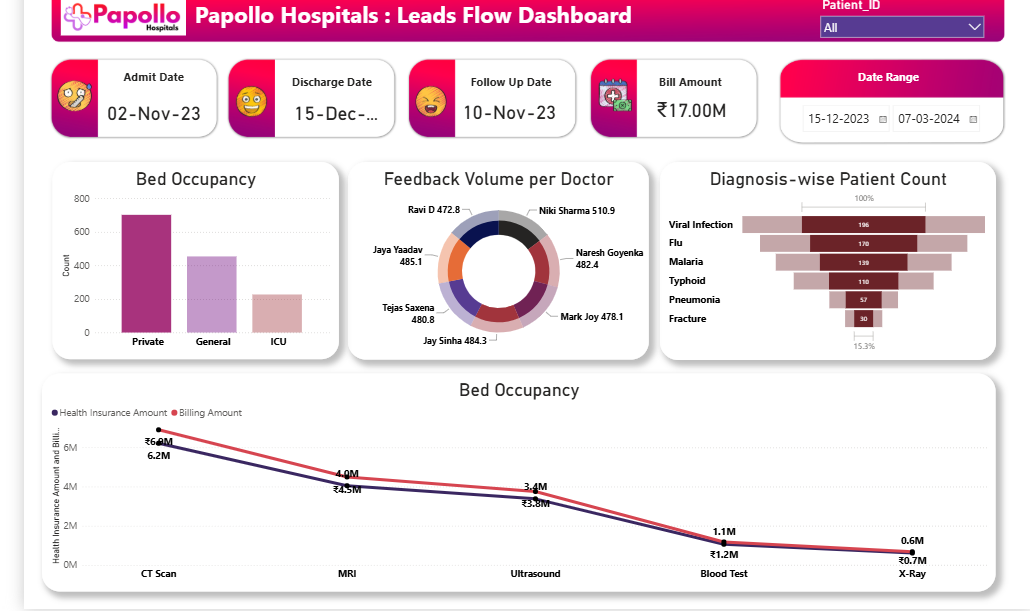

What the dashboard file says about the page in this screenshot:
{"tool":"powerbi","page":{"name":"dashboard","canvas":[1680,1050],"ordinal":0},"visuals":[{"type":"textbox","box":[280,27.1,755.7,74.3],"z":0},{"type":"image","box":[2636.7,100,623.3,150],"z":1000},{"type":"slicer","fields":{"Values":["Sheet1.Patient_ID"]},"box":[2400,373.3,793.3,420],"z":2000},{"type":"card","fields":{"Values":["Min(Sheet1.Admit_Date)"]},"box":[437.6,198.8,162.9,42.8],"z":3000},{"type":"card","fields":{"Values":["Min(Sheet1.Discharge_Date)"]},"box":[129.8,198.8,172.6,42.8],"z":4000},{"type":"card","fields":{"Values":["Min(Sheet1.Followup Date)"]},"box":[724.3,198.6,167.1,42.9],"z":5000},{"type":"textbox","box":[152.9,145.7,127.1,57.1],"z":6000},{"type":"textbox","box":[437.1,151.4,151.4,37.1],"z":7000},{"type":"textbox","box":[732.9,151.4,158.6,37.1],"z":8000},{"type":"textbox","box":[1035.7,151.4,151.4,37.1],"z":9000},{"type":"card","fields":{"Values":["Sum(Sheet1.Billing Amount)"]},"box":[1031.4,194.3,158.6,42.9],"z":10000},{"type":"image","box":[50,157.1,68.6,74.3],"z":11000},{"type":"image","box":[348.6,172.9,62.9,62.9],"z":12000},{"type":"image","box":[640,171.4,77.1,62.9],"z":13000},{"type":"image","box":[951.4,158.6,65.7,71.4],"z":14000},{"type":"columnChart","title":"Bed Occupancy","fields":{"Category":["Sheet1.Bed_Occupancy"],"Y":["CountNonNull(Sheet1.Bed_Occupancy)"]},"box":[47.1,305.7,477.1,328.6],"z":15000},{"type":"donutChart","title":"Feedback Volume per Doctor","fields":{"Category":["Sheet1.Doctor"],"Y":["Sum(Sheet1.Feedback)"]},"box":[540.2,305.2,501,329.5],"z":16000},{"type":"funnel","title":"Diagnosis-wise Patient Count","fields":{"Category":["Sheet1.Diagnosis"],"Y":["CountNonNull(Sheet1.Diagnosis)"]},"box":[1060,305.7,560,330],"z":17000},{"type":"image","box":[30.2,27.8,271.4,71.9],"z":18000},{"type":"lineChart","title":"Bed Occupancy","fields":{"Y":["Sum(Sheet1.Health Insurance Amount)","Sum(Sheet1.Billing Amount)"],"Category":["Sheet1.Test"]},"box":[31.1,656.3,1589.5,363.3],"z":19000},{"type":"slicer","fields":{"Values":["Sheet1.Admit_Date"]},"box":[1284.3,201.2,360.6,68.9],"z":20000},{"type":"slicer","fields":{"Values":["Sheet1.Patient_ID"]},"box":[1317.1,24.3,292.9,82.9],"z":21000},{"type":"textbox","box":[1365.7,145.7,151.4,37.1],"z":22000}]}

Visuals, with their boxes on the page's 1680x1050 design canvas (x1, y1, x2, y2). These are canvas units, not pixel positions in the 1030x611 screenshot, which may show the page scaled, cropped or inside an application window:
textbox: left=280, top=27, right=1036, bottom=101
image: left=2637, top=100, right=3260, bottom=250
slicer - Sheet1.Patient_ID: left=2400, top=373, right=3193, bottom=793
card - Min(Sheet1.Admit_Date): left=438, top=199, right=600, bottom=242
card - Min(Sheet1.Discharge_Date): left=130, top=199, right=302, bottom=242
card - Min(Sheet1.Followup Date): left=724, top=199, right=891, bottom=242
textbox: left=153, top=146, right=280, bottom=203
textbox: left=437, top=151, right=588, bottom=188
textbox: left=733, top=151, right=892, bottom=188
textbox: left=1036, top=151, right=1187, bottom=188
card - Sum(Sheet1.Billing Amount): left=1031, top=194, right=1190, bottom=237
image: left=50, top=157, right=119, bottom=231
image: left=349, top=173, right=412, bottom=236
image: left=640, top=171, right=717, bottom=234
image: left=951, top=159, right=1017, bottom=230
"Bed Occupancy" columnChart: left=47, top=306, right=524, bottom=634
"Feedback Volume per Doctor" donutChart: left=540, top=305, right=1041, bottom=635
"Diagnosis-wise Patient Count" funnel: left=1060, top=306, right=1620, bottom=636
image: left=30, top=28, right=302, bottom=100
"Bed Occupancy" lineChart: left=31, top=656, right=1621, bottom=1020
slicer - Sheet1.Admit_Date: left=1284, top=201, right=1645, bottom=270
slicer - Sheet1.Patient_ID: left=1317, top=24, right=1610, bottom=107
textbox: left=1366, top=146, right=1517, bottom=183
